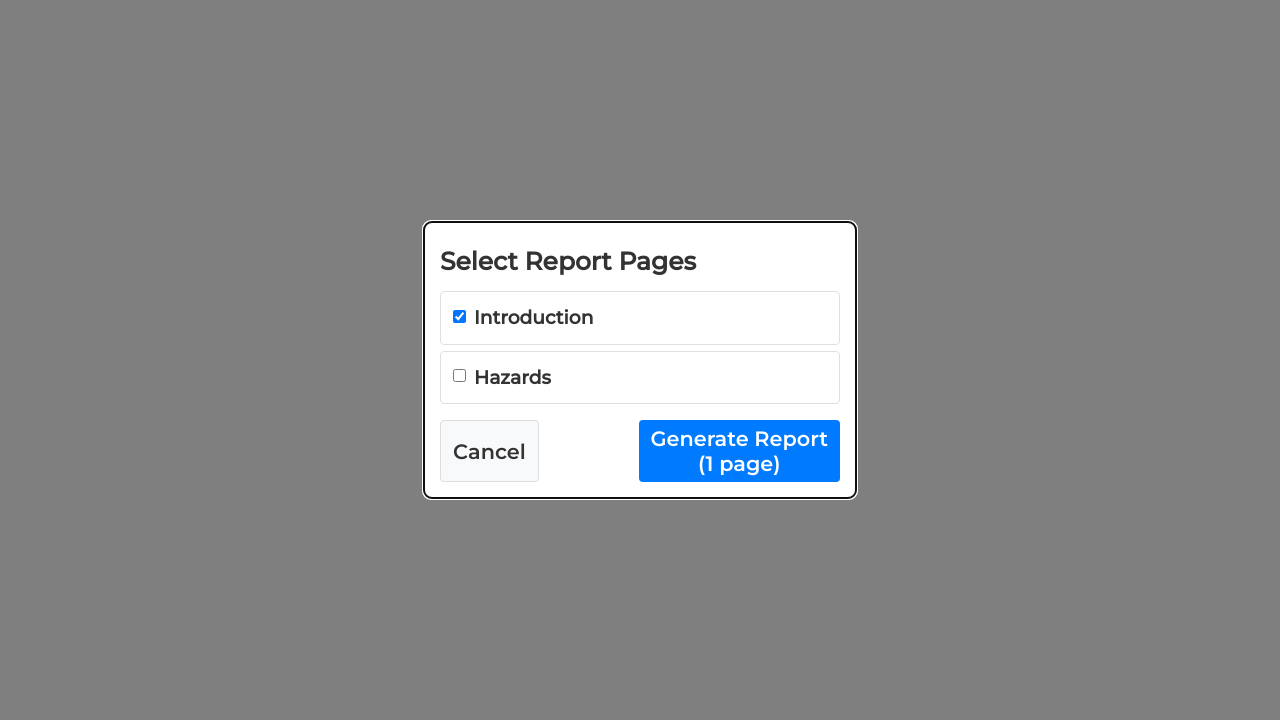
Scenario: PageSelectionModal › disables Generate when no pages are selected
Click the checkbox named "Include Introduction in report": (460, 316) [453,310,466,323]
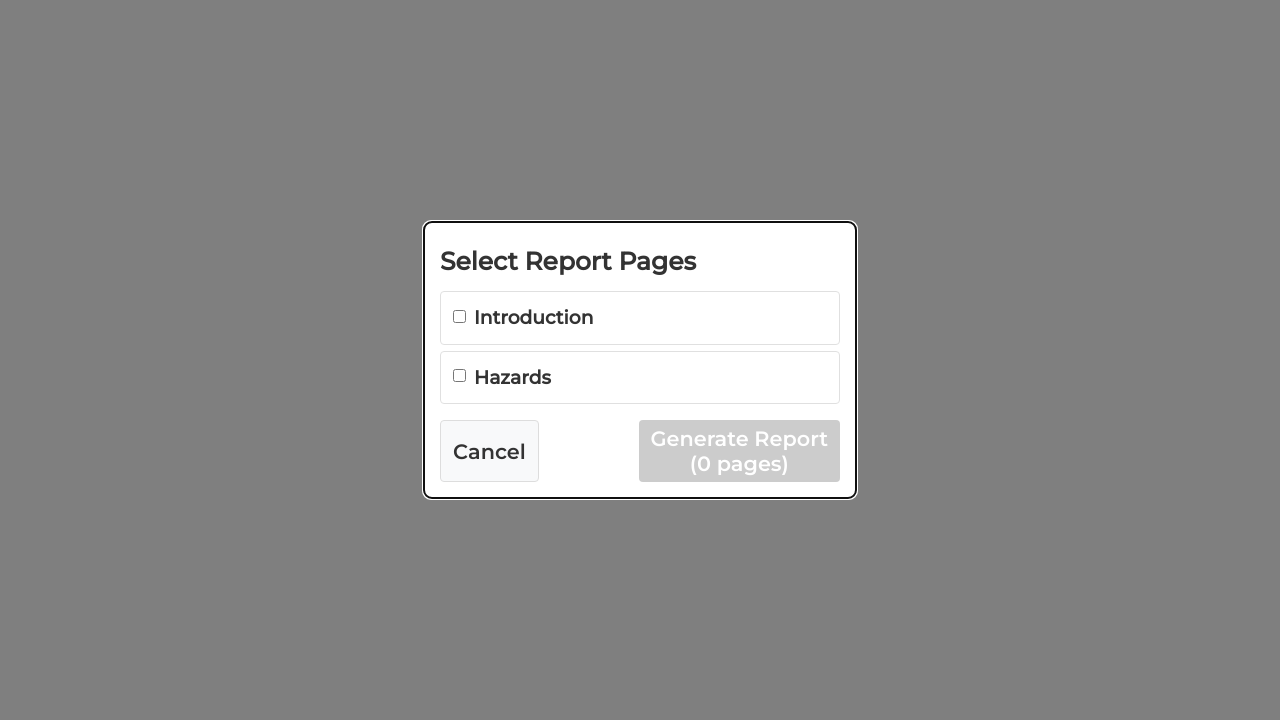
Result: the button "Generate Report (0 pages)" is disabled at [638,420,840,482]
